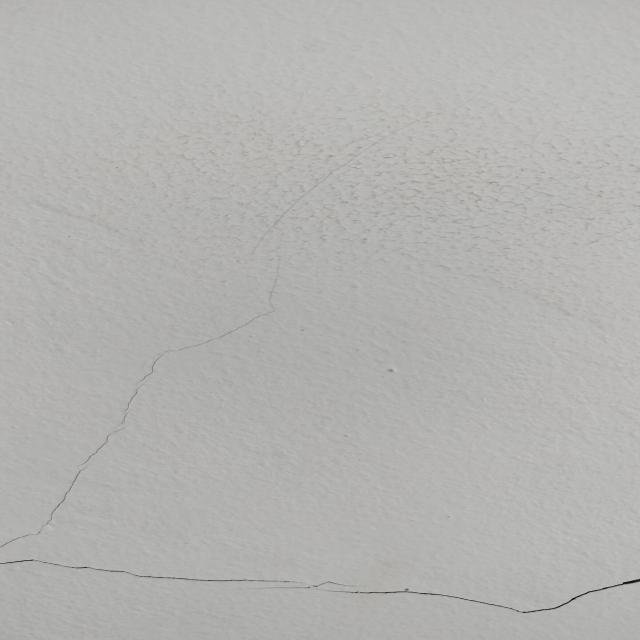Crack: (2, 268, 292, 552), (5, 555, 640, 616)
